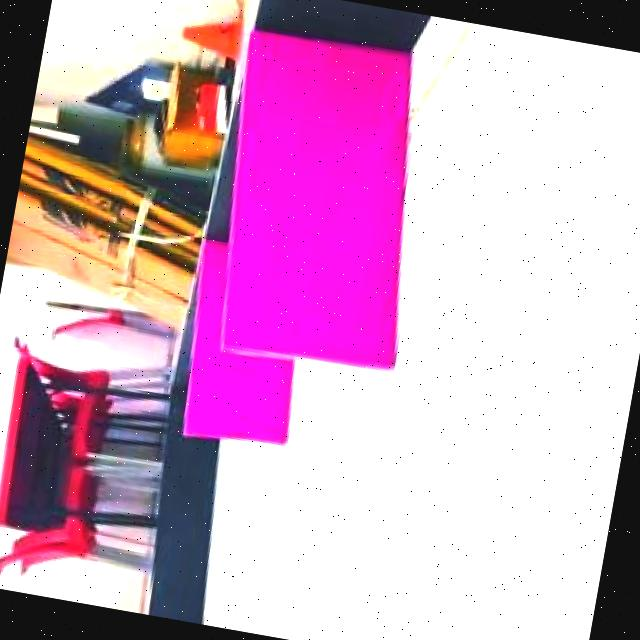xparking: (224, 29, 433, 372), (179, 346, 296, 448)
